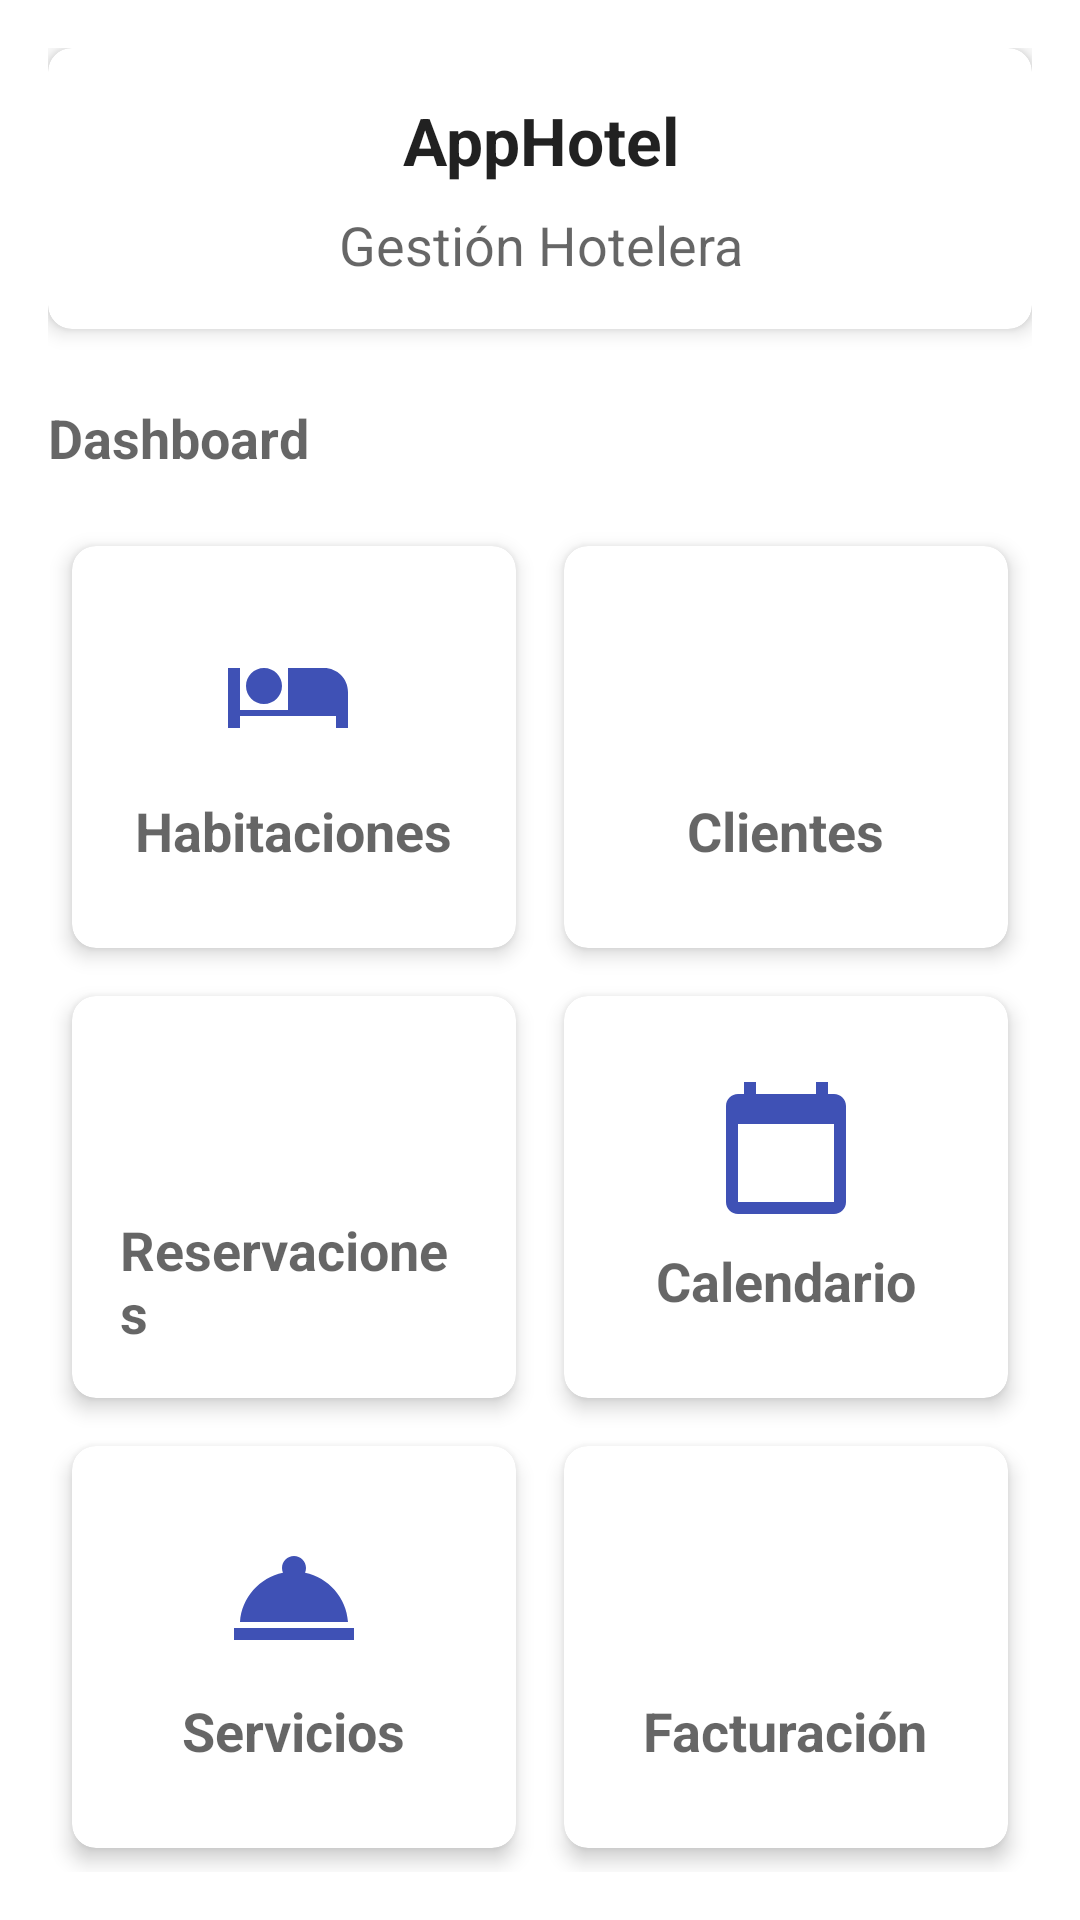

Screen size 1080px x 1920px. Icon name, then its box in pixels as (x1, y1, x2, y2):
room: (228, 668, 348, 728)
service: (234, 1556, 354, 1640)
